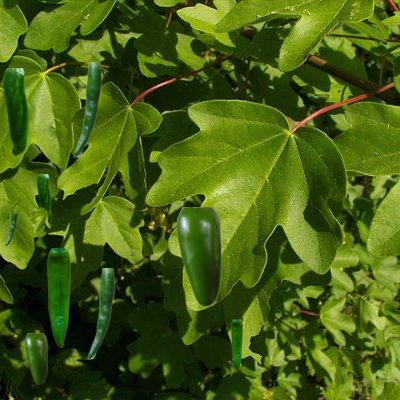green_chili: (177, 207, 220, 305), (73, 62, 100, 156), (87, 268, 113, 358), (47, 248, 69, 346), (3, 68, 26, 154), (25, 333, 46, 383), (231, 319, 241, 369), (37, 174, 49, 209), (5, 211, 16, 245)
